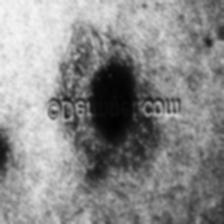Potentially Malignant Skin Tumors: (87, 66, 137, 148)
